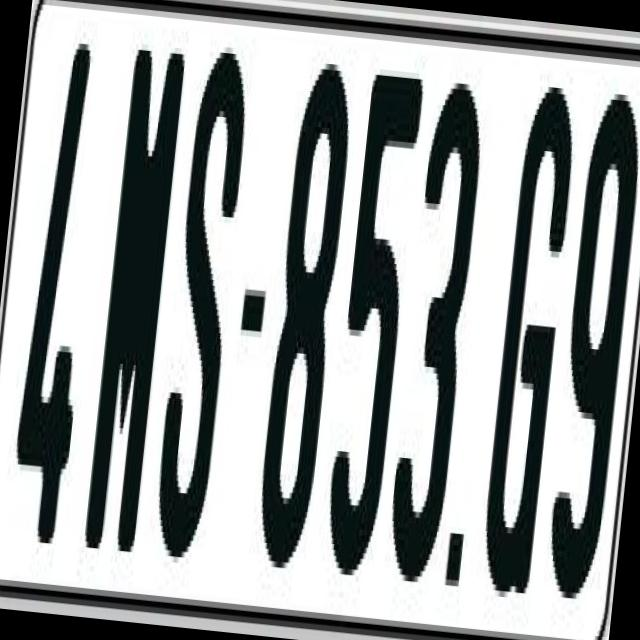3: (381, 69, 492, 596)
4: (6, 23, 116, 550)
5: (318, 56, 432, 590)
8: (255, 44, 362, 558)
9: (538, 91, 638, 599)
G: (478, 67, 590, 588)
M: (78, 31, 182, 563)
S: (148, 51, 250, 564)
